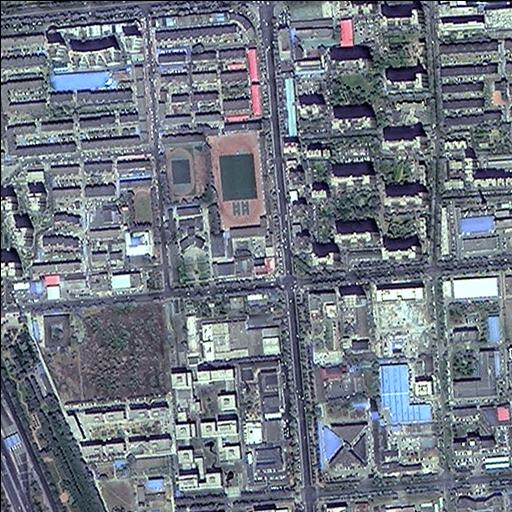school: (153, 130, 214, 288), (207, 128, 273, 255)
